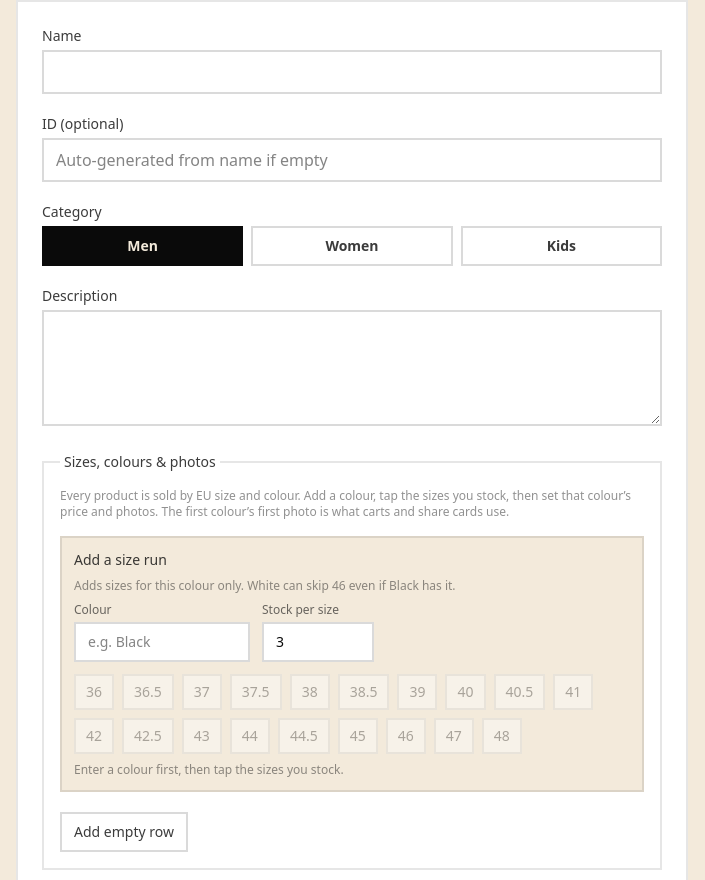
Test case: the size run builder › builds one row per tapped size and totals the stock
In the field labelled "Colour": (162, 642) 74,622 -> 250,662, type "Black"
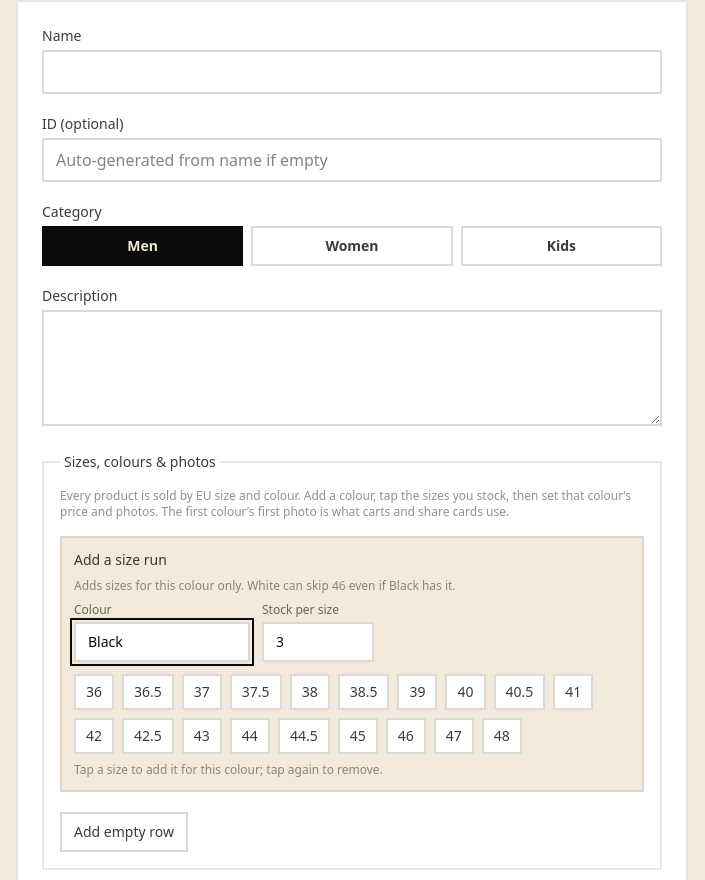
Replace the text in the number field labelled "Stock per size" with "4": (318, 642) 262,622 -> 374,662
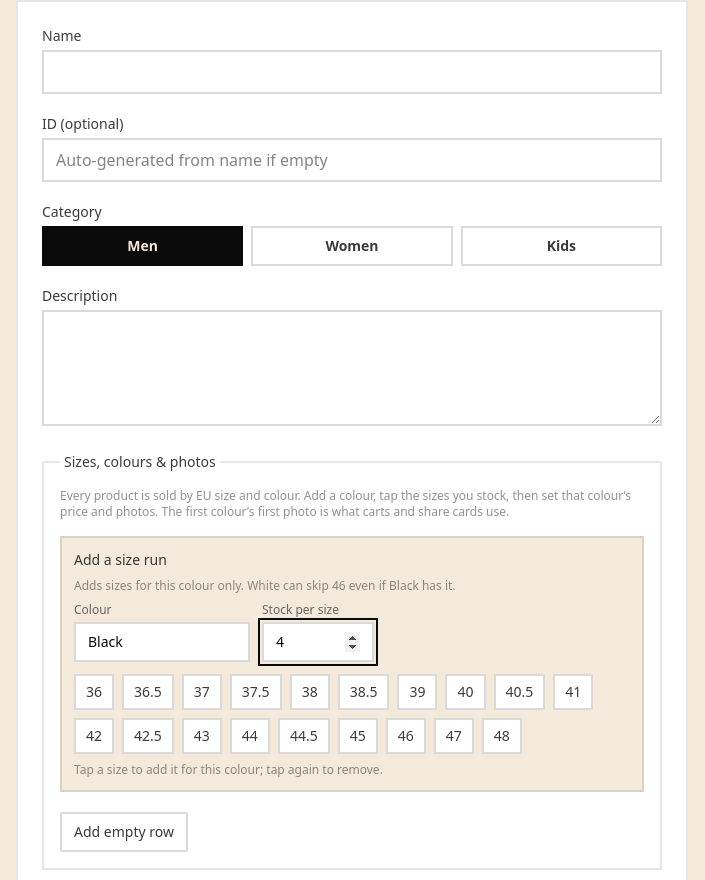
Click the button "42": click(94, 736) 74,718 -> 114,754
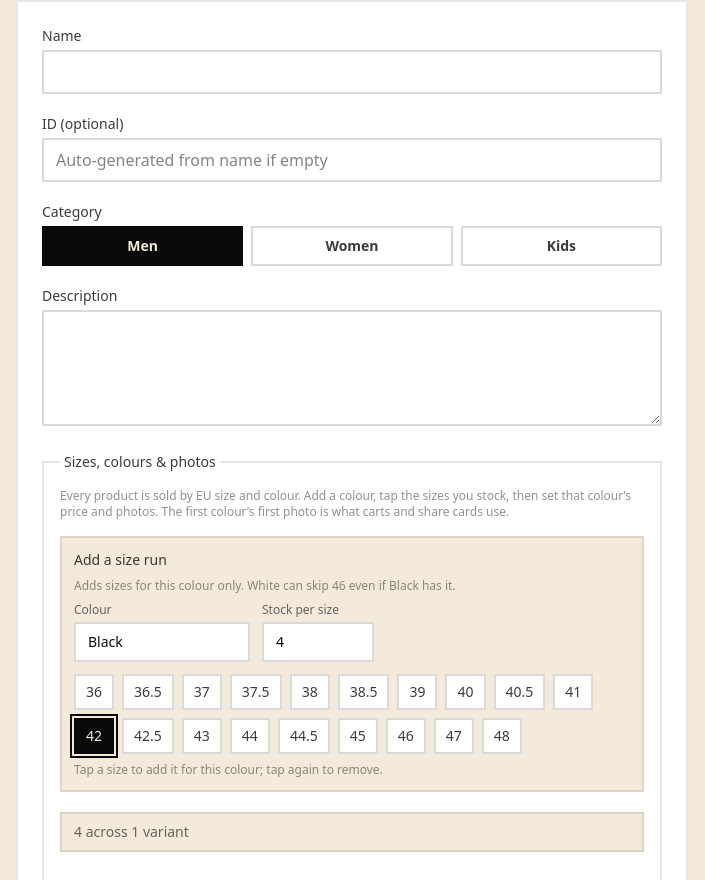
Click the button "43": click(202, 736) 182,718 -> 222,754
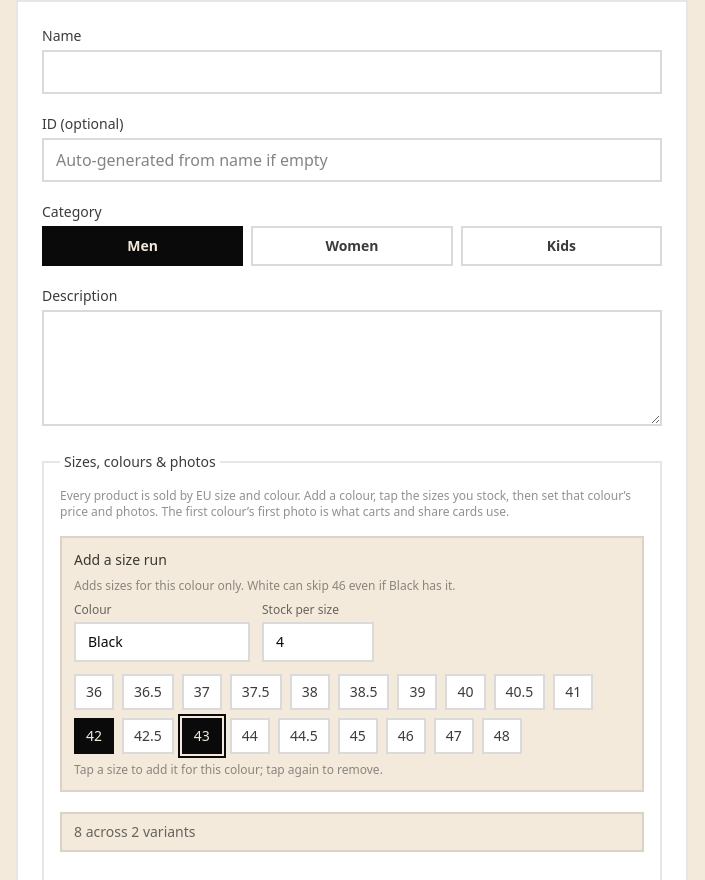
Expected: the text "8 across 2 variants" is shown, 60,812 -> 644,852
